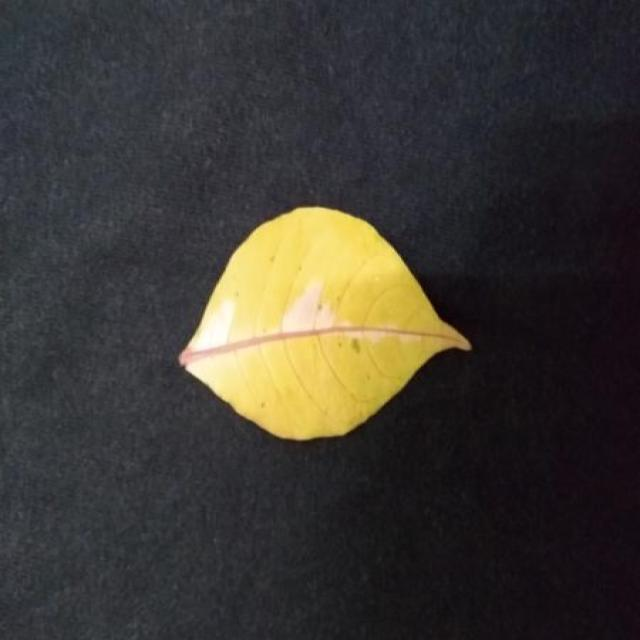caricature: (180, 208, 472, 439)
